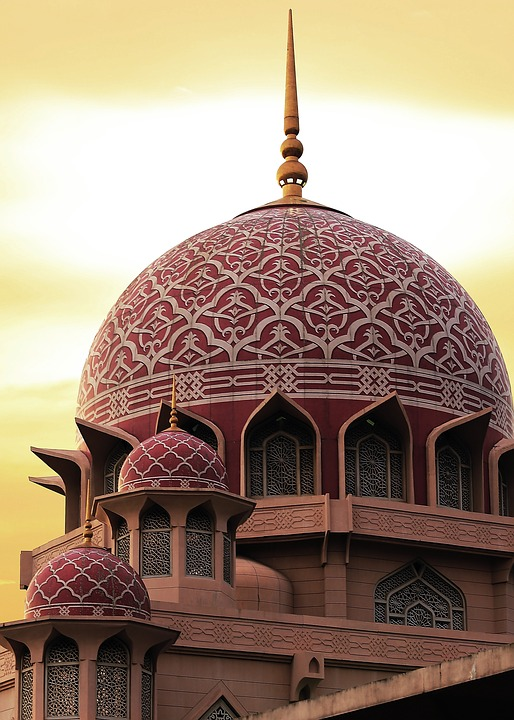Mosque: (35, 2, 512, 653)
